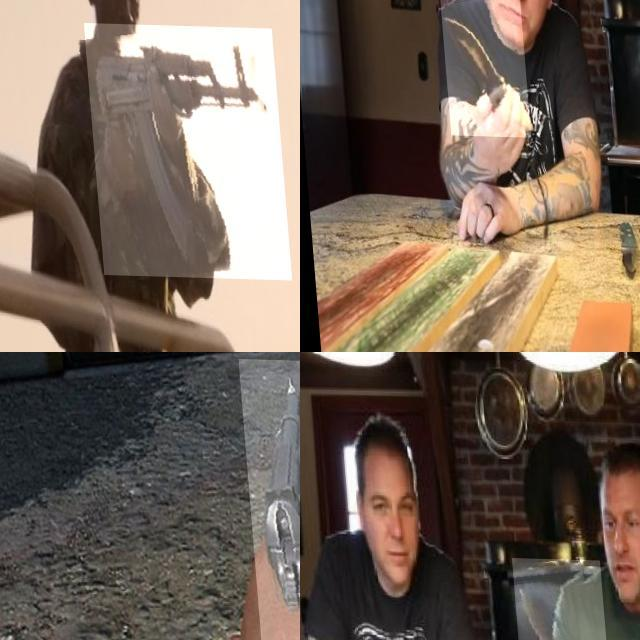-: (436, 0, 525, 136), (507, 555, 608, 640)
gun-knife-thesis - v11 Yolov5 augmented: (80, 22, 284, 278), (234, 357, 300, 640)
